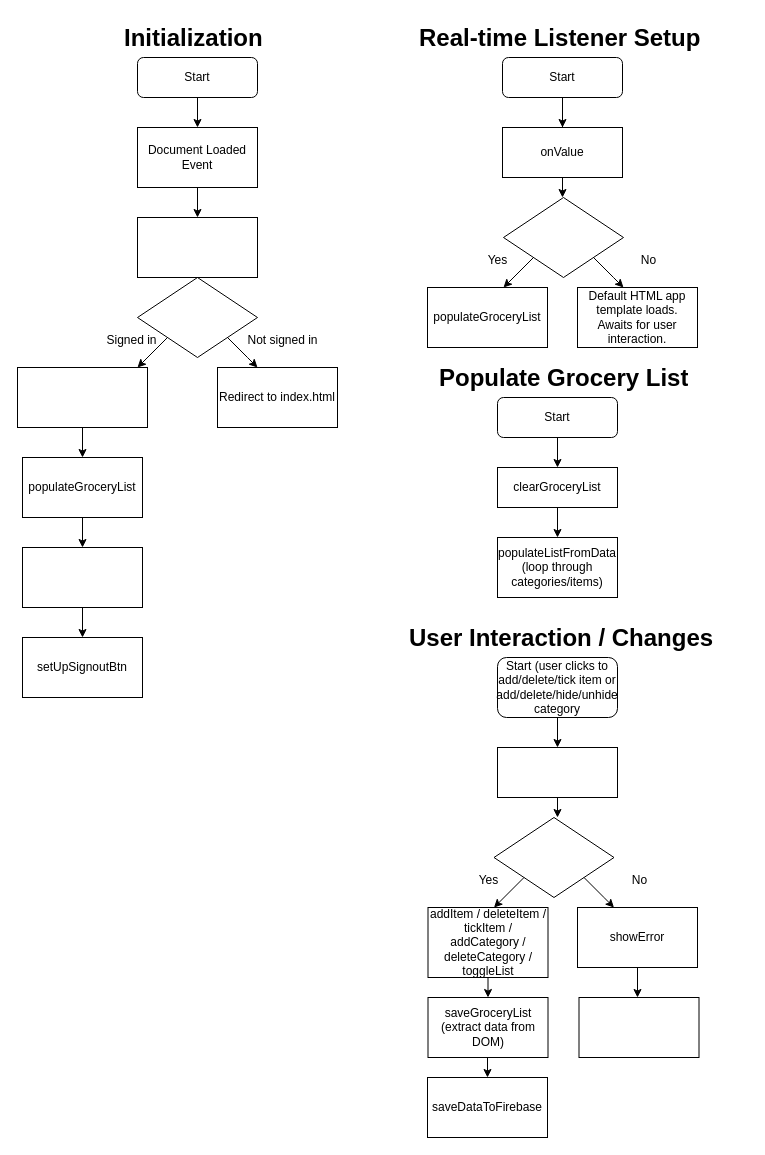
This 765x1155 diagram has some shape labels left out. The centre of each missing label's shape, as x and y in pixels:
Check if Data Exists: [563,237]
Check if Validated: [553,857]
Check User Authentication: [197,317]
clearError on "focusout" event: [638,1027]
onAuthStateChanged: [197,247]
setUpRealltimeListener (reads data from DB): [82,397]
Update Event Listeners: [82,577]
Validate Input (if addItem or addCategory): [557,772]
